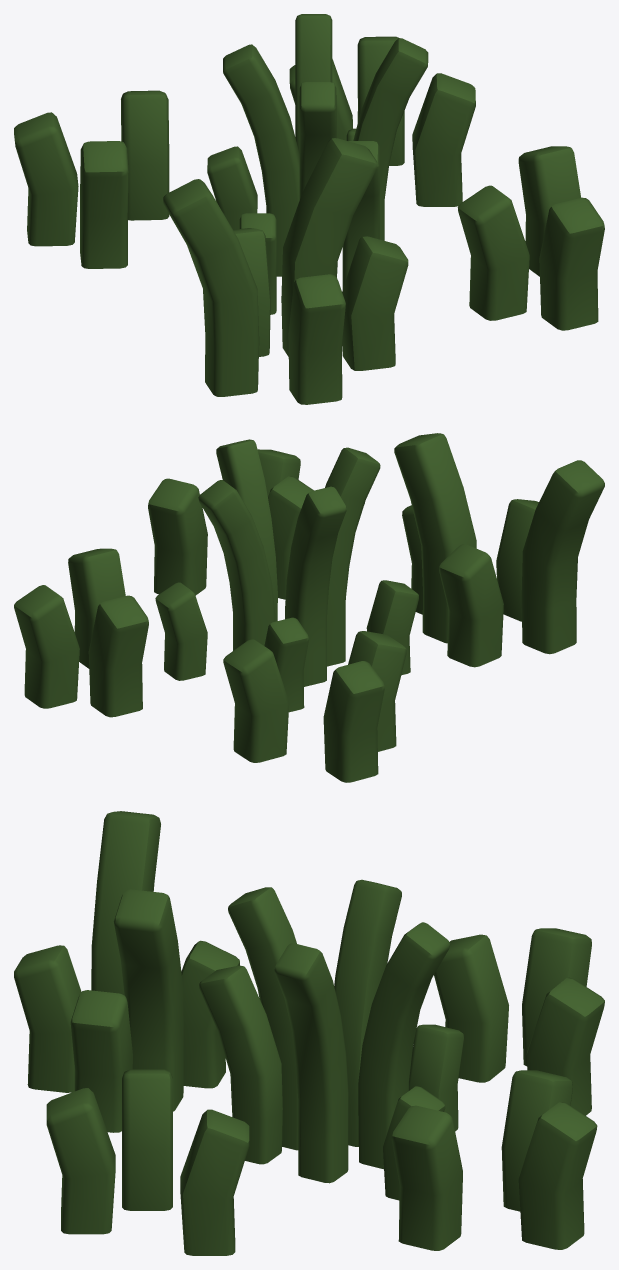
Rendered from SM_GrassClump_03.glb.
3 views of the same model, one above another, from view 1: azimuth 30°, elevation 25°; view 2: azimuth 150°, elevation 25°; view 3: azimuth 270°, elevation 25° (orthographic). The views are drawn at different scales.
Visible parts, largest first — view 1: SM_GrassClump_03; view 2: SM_GrassClump_03; view 3: SM_GrassClump_03.
Part boxes in pixels (x1,y1,x2,y2): SM_GrassClump_03: (14,14,604,404); SM_GrassClump_03: (14,433,604,782); SM_GrassClump_03: (14,811,604,1255).
Size of the model in its own units: 1.67 by 0.7874 by 1.76.
